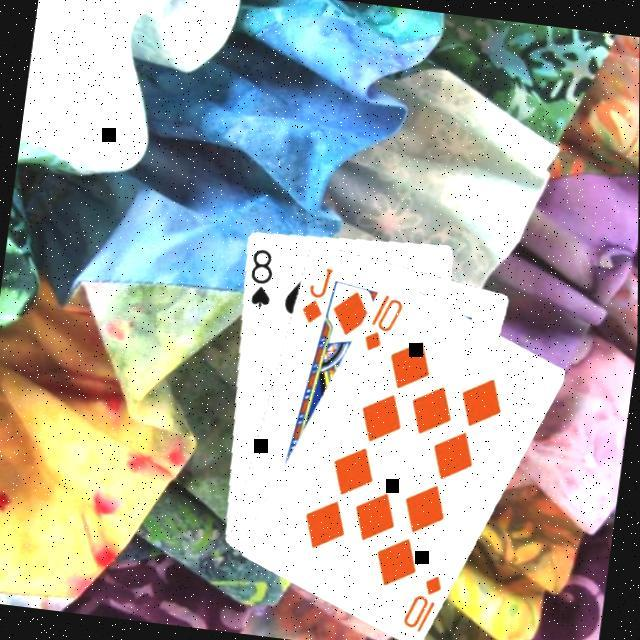10D: (395, 569, 444, 640), (357, 289, 405, 358)
8S: (240, 246, 276, 313)
JD: (294, 263, 334, 330)
